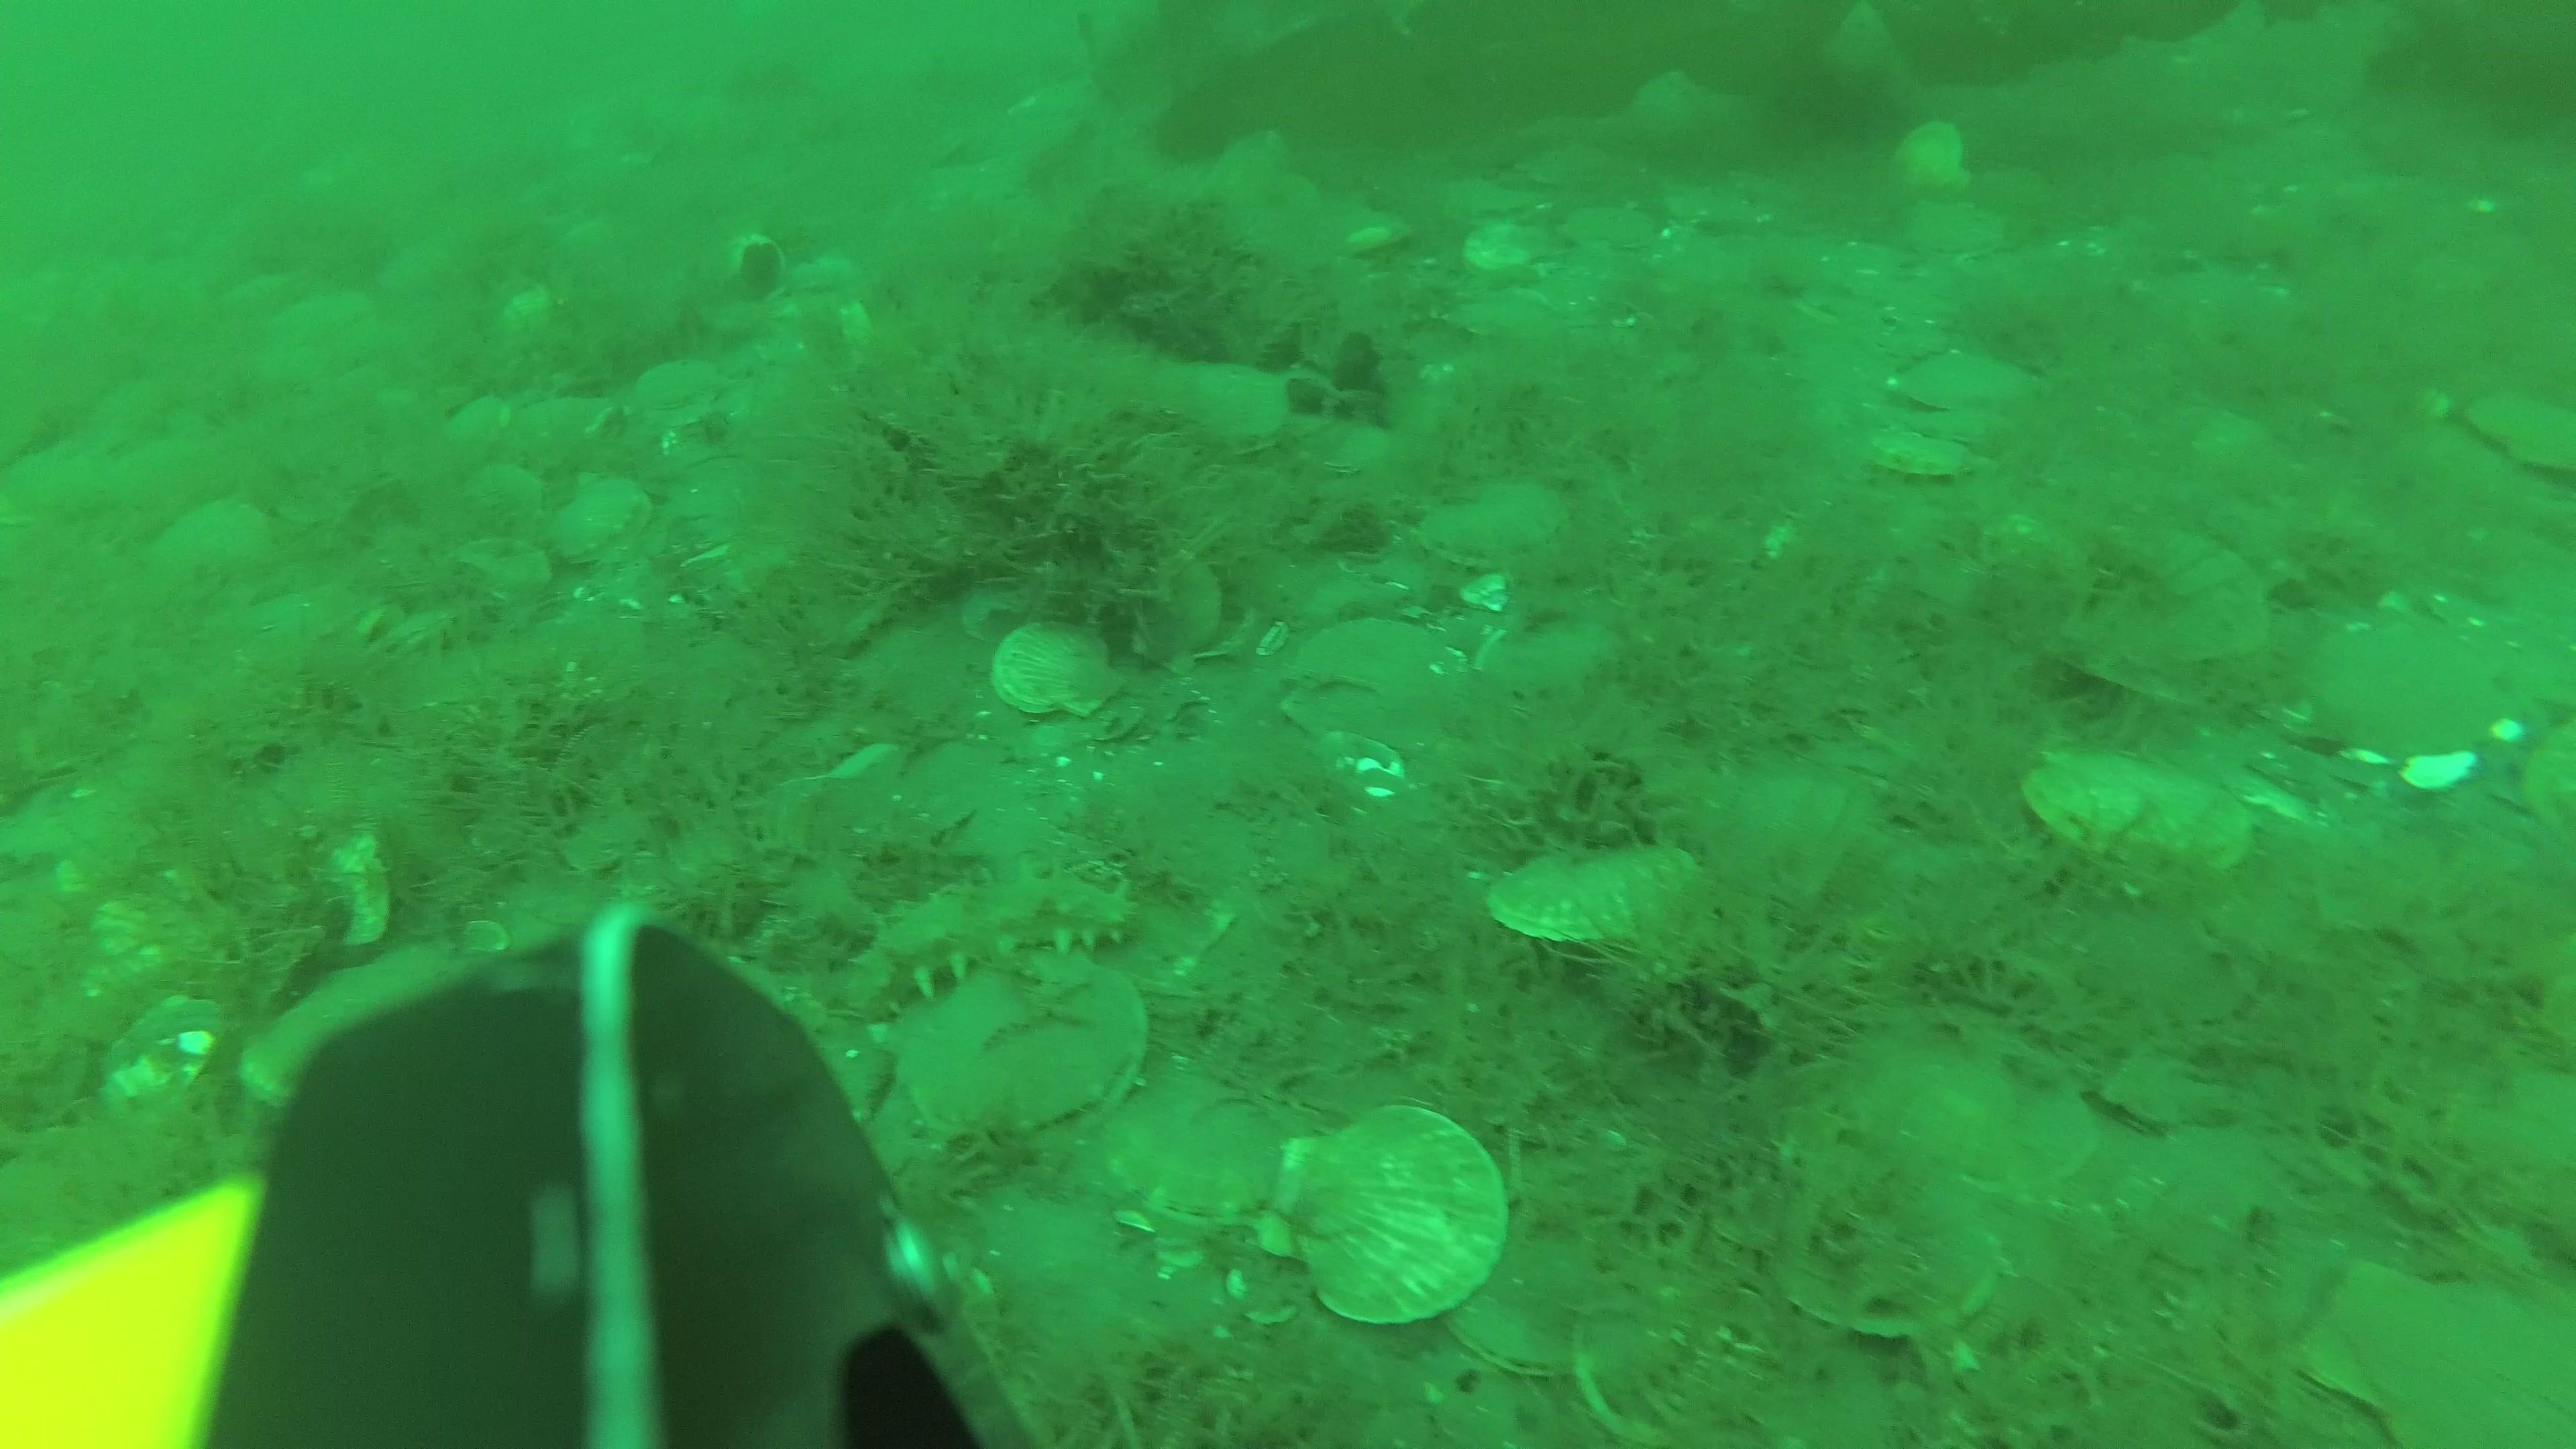holothurian: (842, 867, 1134, 1024)
scallop: (1269, 1108, 1502, 1325), (2284, 1265, 2557, 1449), (1863, 1010, 2098, 1208), (232, 938, 476, 1125), (895, 966, 1138, 1152), (1785, 1125, 1996, 1332), (1077, 1040, 1286, 1240), (1568, 1270, 1801, 1449), (2047, 533, 2265, 702), (2279, 614, 2509, 770), (1445, 1191, 1629, 1380), (2017, 743, 2254, 890), (2118, 1129, 2286, 1281), (1488, 844, 1702, 961), (1088, 538, 1230, 669), (1426, 469, 1566, 568), (989, 614, 1111, 715), (156, 501, 288, 591), (1166, 361, 1292, 453), (2477, 387, 2576, 497), (1893, 341, 2029, 416), (1897, 196, 2008, 272), (550, 469, 651, 550), (1890, 117, 1976, 200), (456, 531, 556, 603), (1874, 426, 1974, 497), (1562, 195, 1674, 258), (1463, 218, 1562, 281), (1920, 403, 2019, 453)
